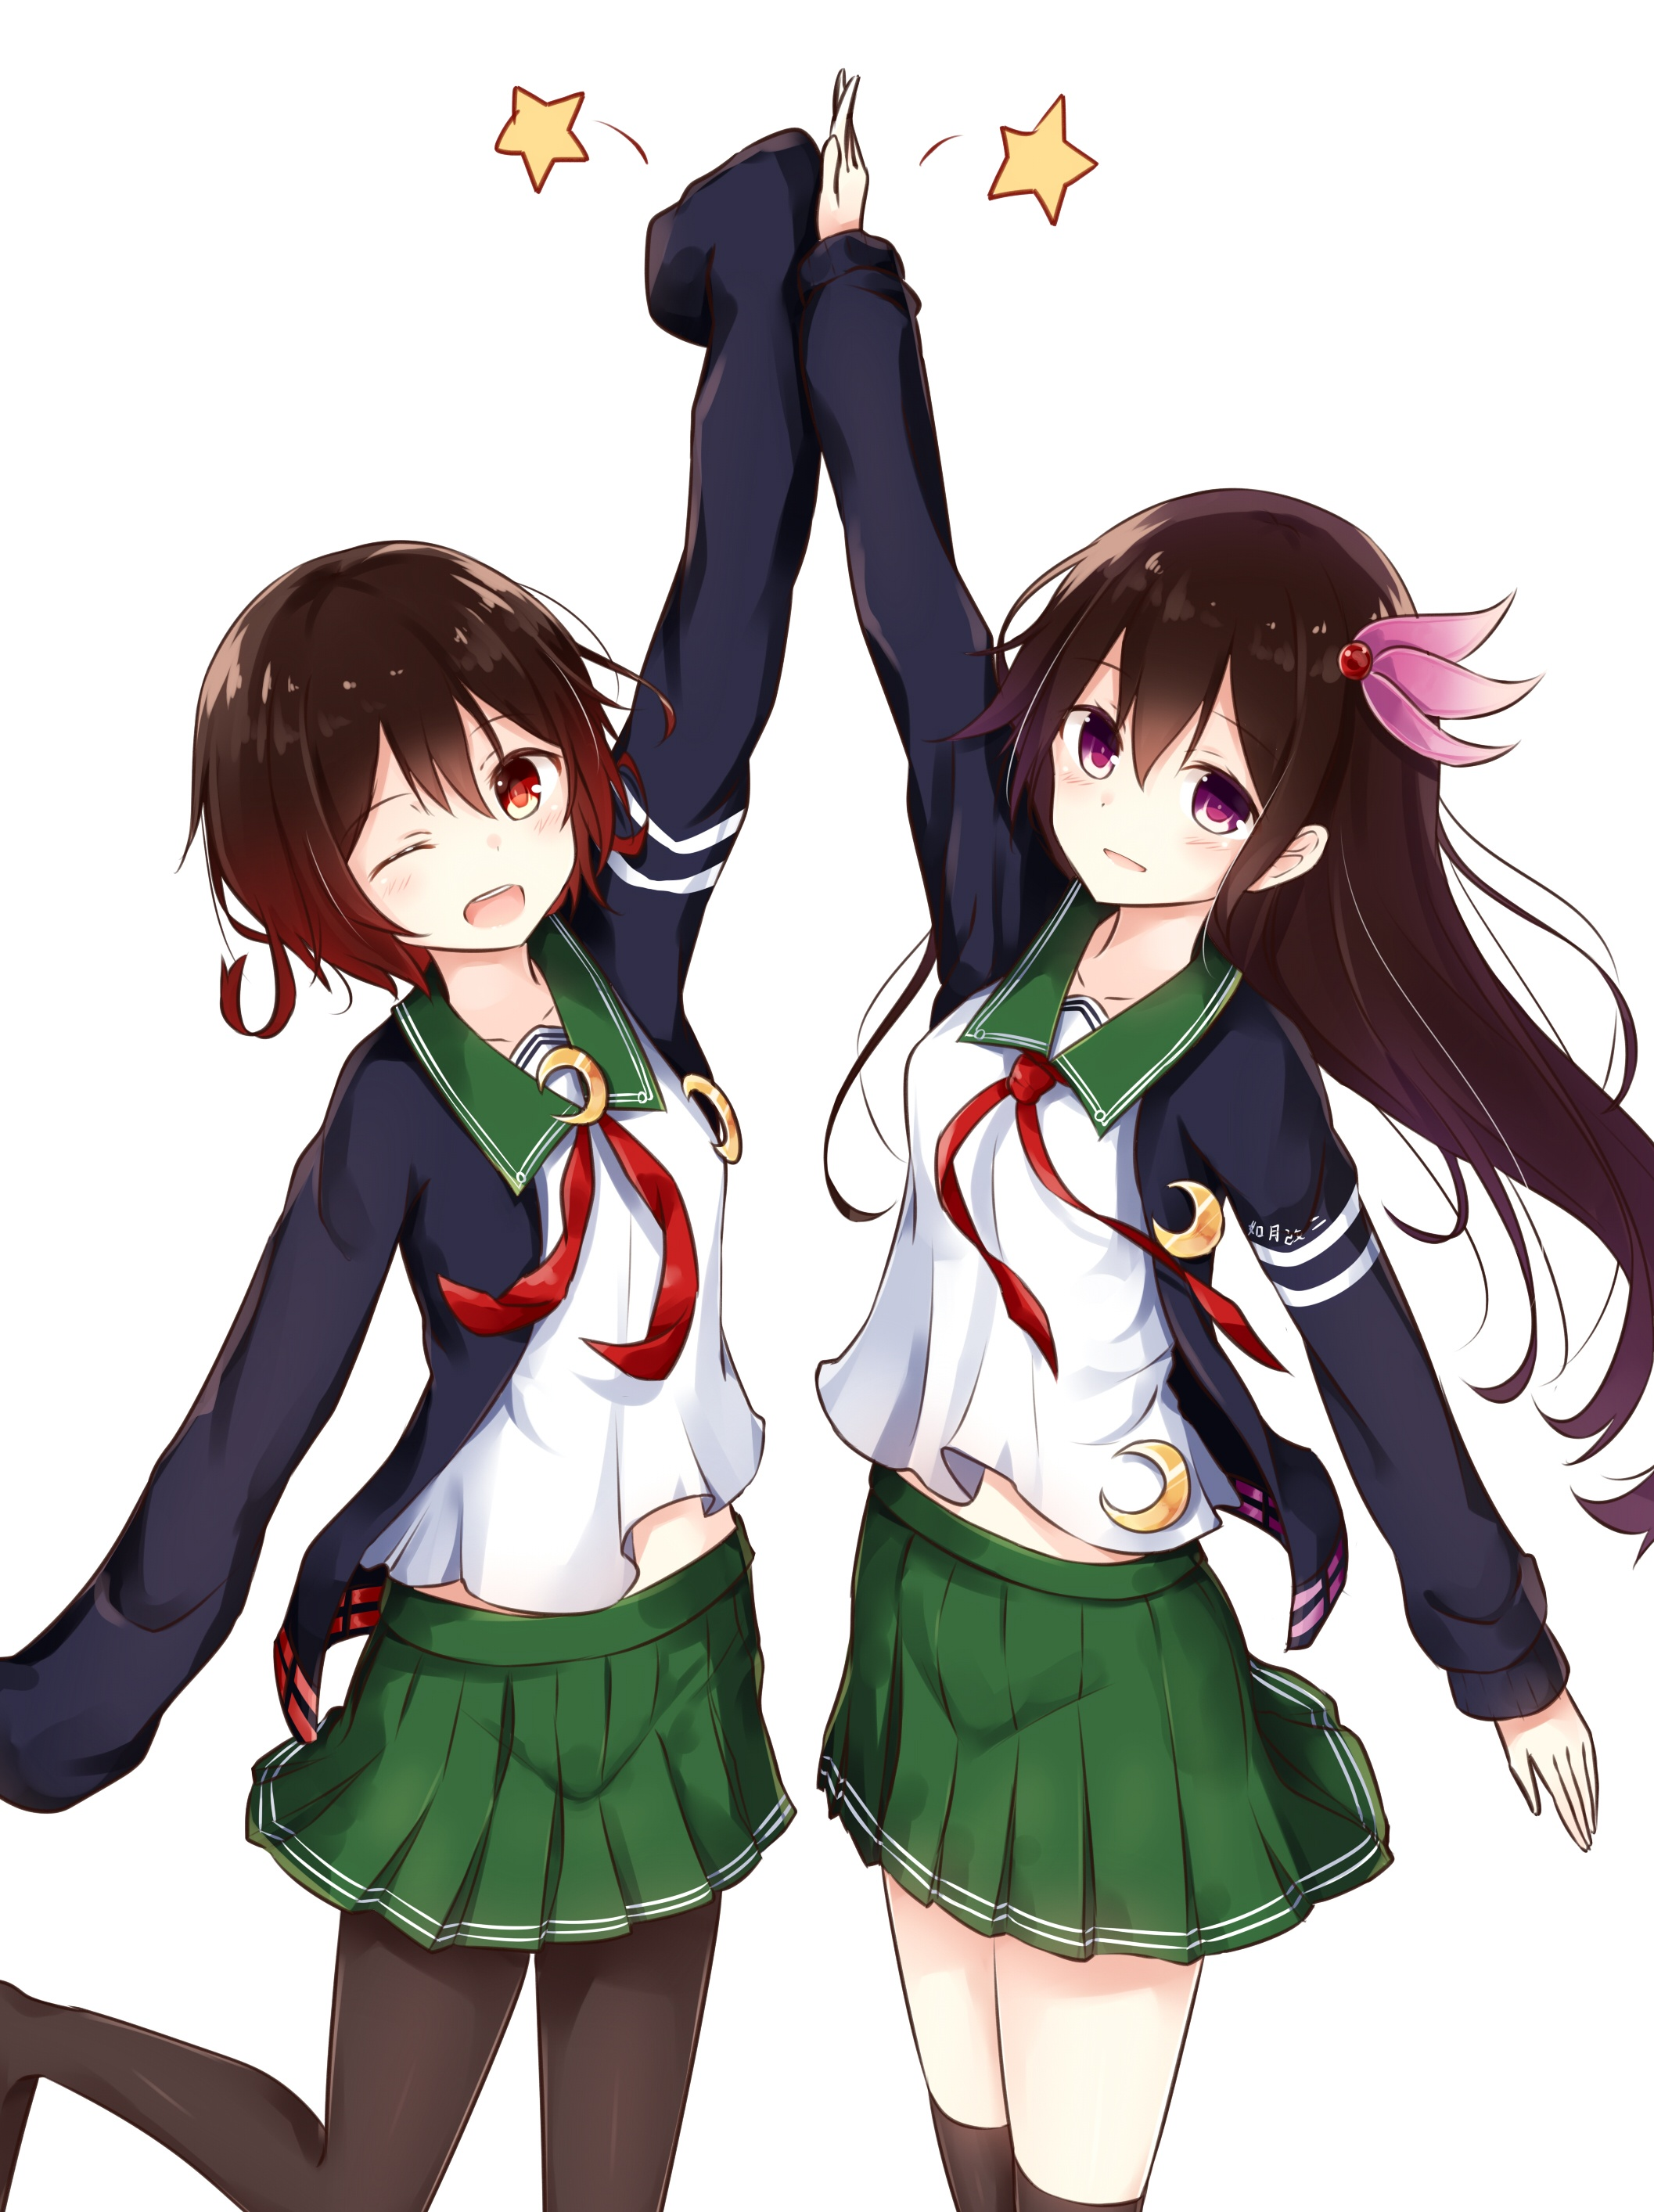纸片人正脸: (185, 527, 642, 992), (972, 483, 1412, 962)
